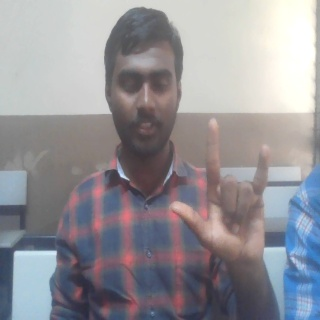Face: (101, 7, 185, 162)
I Love You: (169, 116, 294, 265)
